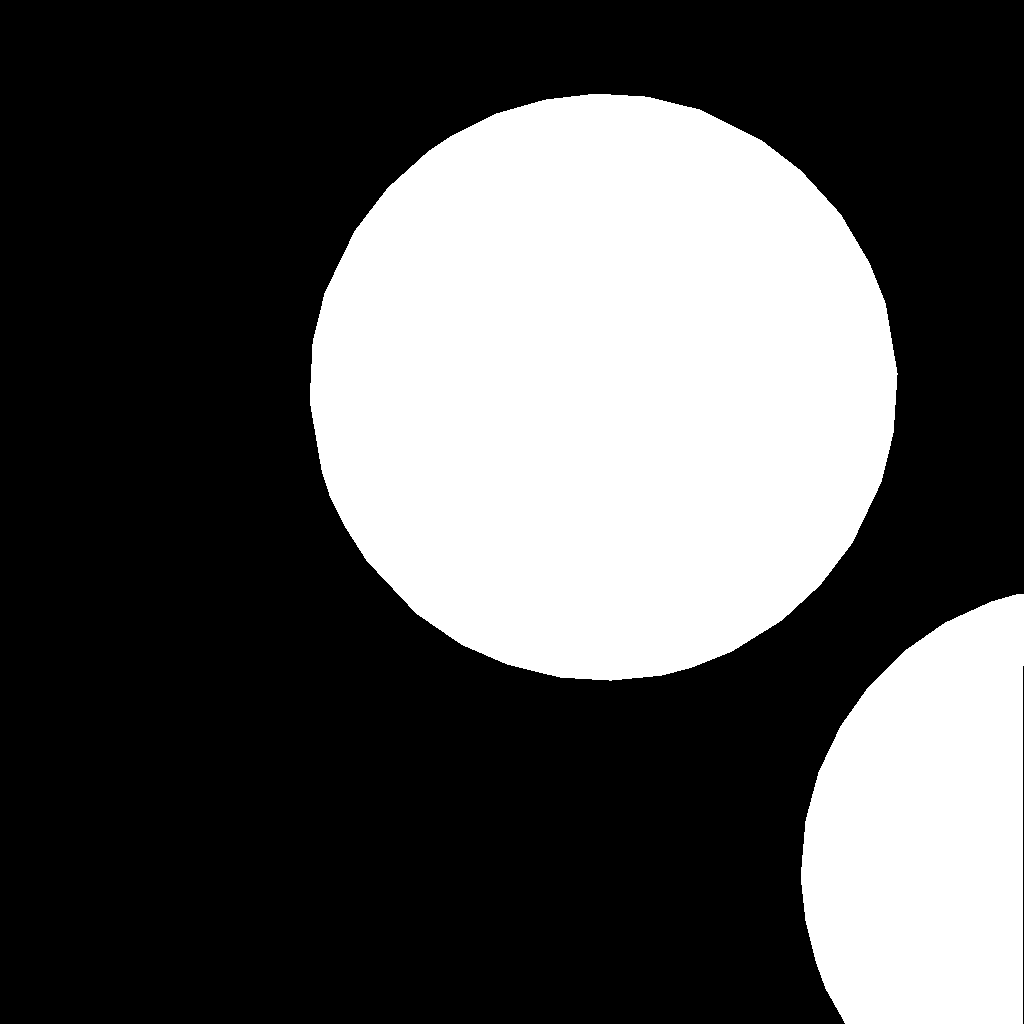building: (310, 94, 898, 681), (801, 594, 1024, 1024)
